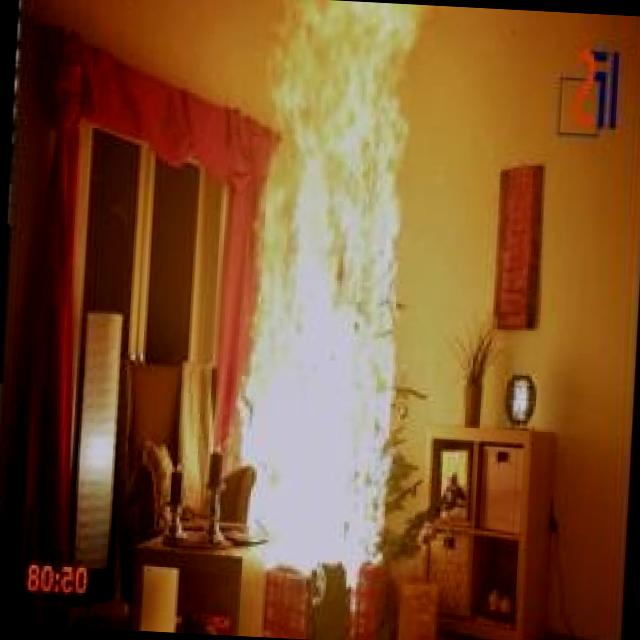fire: (170, 0, 481, 607)
